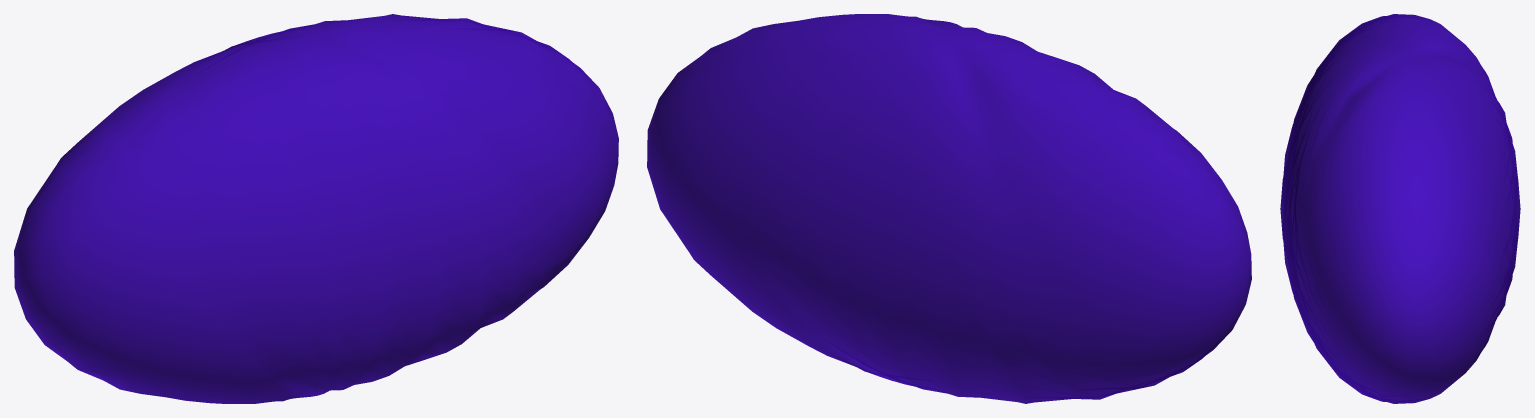
File: Shield.FBX
3 views of the same model, side by side, from view 1: azimuth 30°, elevation 25°; view 2: azimuth 150°, elevation 25°; view 3: azimuth 270°, elevation 25° (orthographic). The views are drawn at different scales.
Parts seen in each view (by area): view 1: ww; view 2: ww; view 3: ww.
Boxes of the visible parts, box(x1,y1,x2,y2) form: ww: box(14, 14, 618, 403); ww: box(647, 14, 1251, 403); ww: box(1280, 14, 1520, 403).
Bounding box in the file's own units: 830 × 469 × 337.
